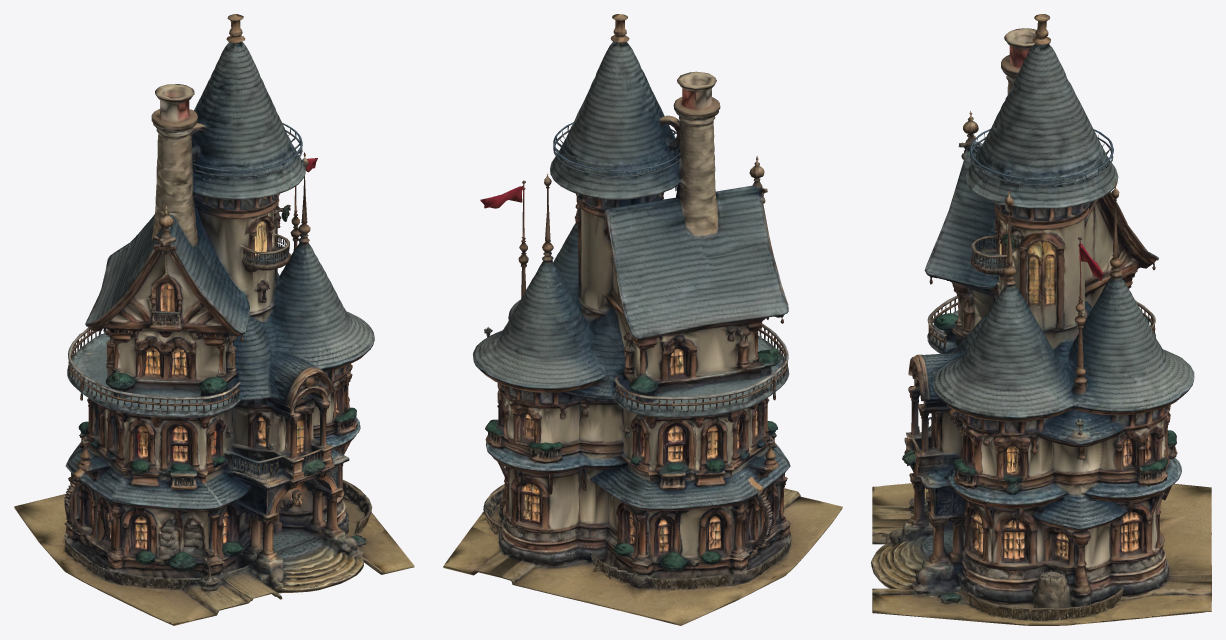
The model's file is castle.glb.
3 views of the same model, side by side, from view 1: azimuth 30°, elevation 25°; view 2: azimuth 150°, elevation 25°; view 3: azimuth 270°, elevation 25° (orthographic). The views are drawn at different scales.
Parts seen in each view (by area): view 1: tripo_node_16a79378-734f-42ea-89bc-52442ad6c80f; view 2: tripo_node_16a79378-734f-42ea-89bc-52442ad6c80f; view 3: tripo_node_16a79378-734f-42ea-89bc-52442ad6c80f.
Boxes of the visible parts, x1,y1,x2,y2 form: tripo_node_16a79378-734f-42ea-89bc-52442ad6c80f: (14, 14, 414, 625); tripo_node_16a79378-734f-42ea-89bc-52442ad6c80f: (443, 14, 842, 625); tripo_node_16a79378-734f-42ea-89bc-52442ad6c80f: (871, 14, 1211, 625).
Size of the model in its own units: 0.5804 by 0.9787 by 0.5543.
Materials: 1 (1 with a texture image).
